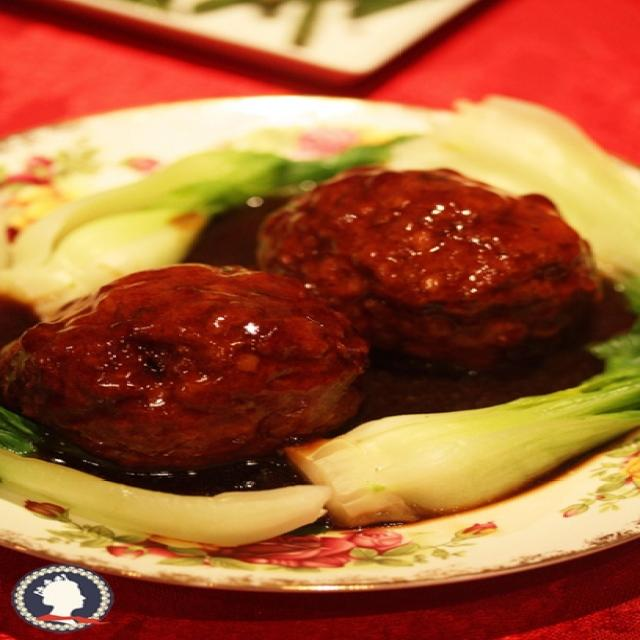Meatball: (0, 252, 380, 496), (248, 158, 624, 371)
